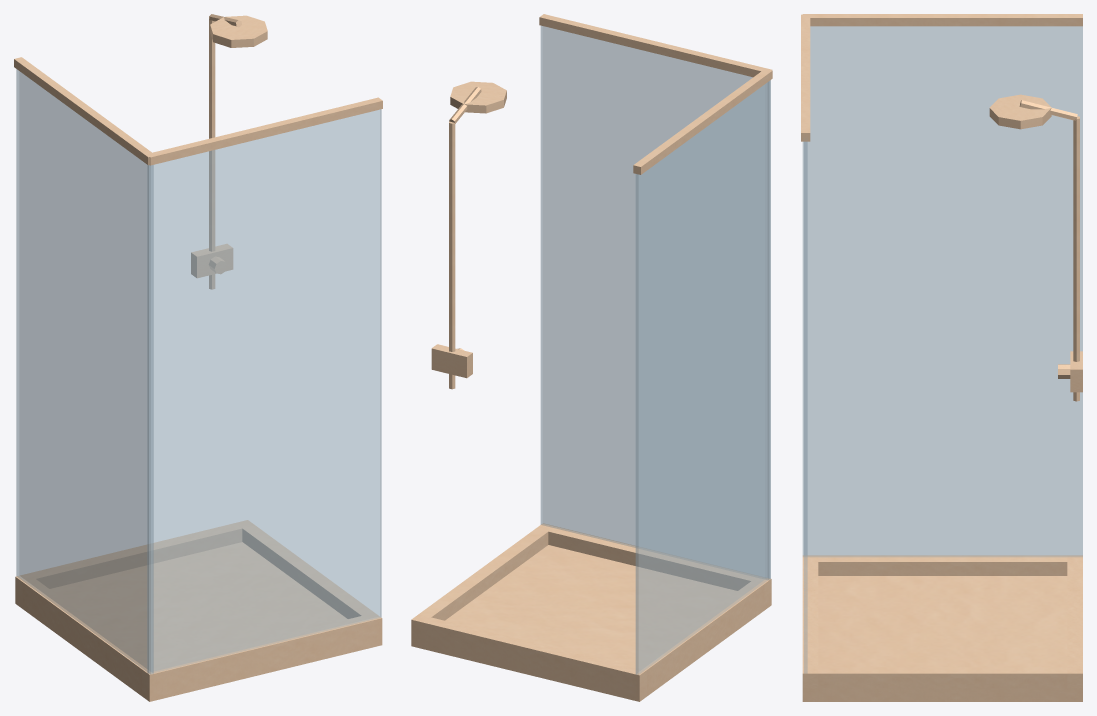
Rendered from Shower.fbx.
3 renders of one model, left to right at view 1: azimuth 30°, elevation 25°; view 2: azimuth 150°, elevation 25°; view 3: azimuth 270°, elevation 25°, orthographic. The views are drawn at different scales.
Parts seen in each view (by area): view 1: Shower; view 2: Shower; view 3: Shower.
Boxes of the visible parts, bbox=[...] form: Shower: bbox=[14, 14, 382, 701]; Shower: bbox=[411, 14, 772, 701]; Shower: bbox=[801, 14, 1082, 701].
Bounding box in the file's own units: 0.905 × 2.06 × 0.905.
2 materials, 1 textured.
